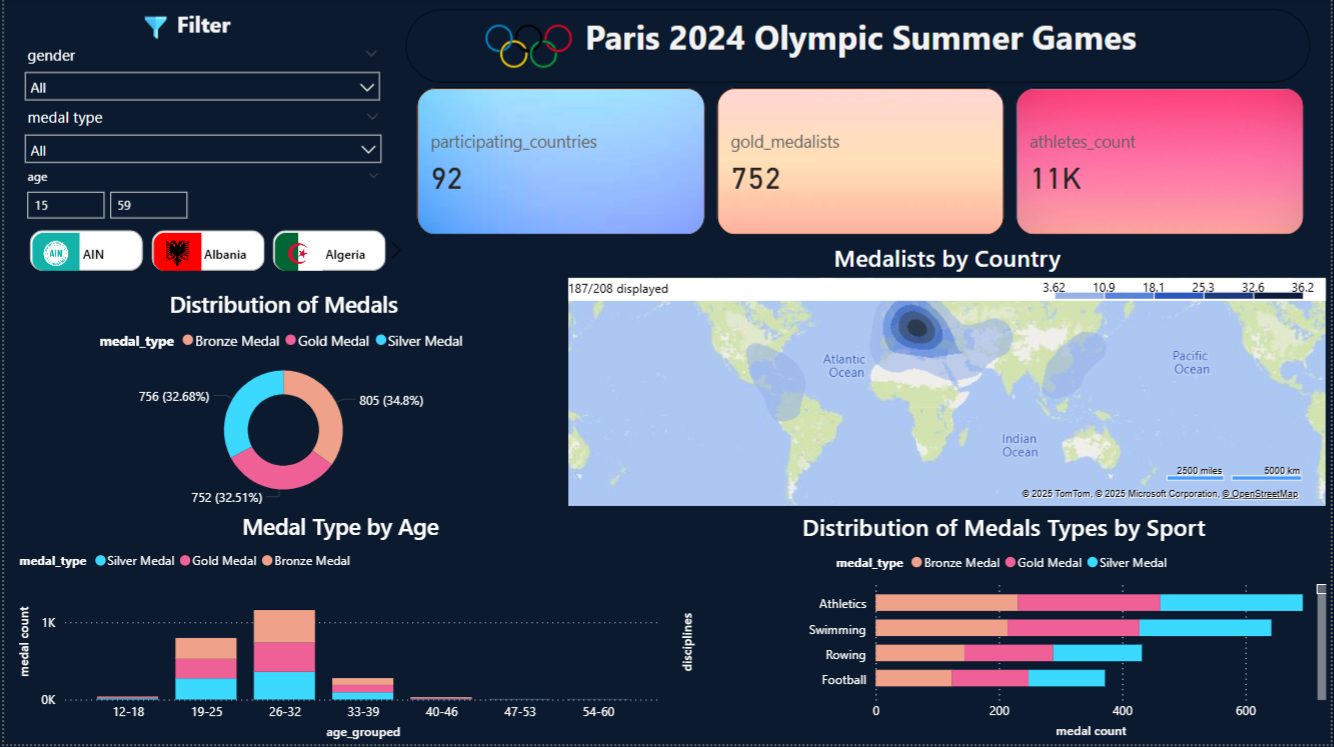

The page's visual inventory and layout, read from the dashboard file:
{"tool":"powerbi","page":{"name":"Page 1","canvas":[1280,720],"ordinal":0},"visuals":[{"type":"shape","box":[387.4,11.1,872.7,71.2],"z":0},{"type":"textbox","box":[393.8,11.2,866.2,71.2],"z":1000},{"type":"cardVisual","fields":{"Data":["winners.athletes_count"]},"box":[971.2,82.5,288.8,152.5],"z":2000},{"type":"heatmapF244EA9EE1F34E828A80CF19B41976F8","title":"Medalists by Country","fields":{"group":["winners.medallists.medal_type"],"location":["winners.country"]},"box":[539.3,231.6,740.8,263],"z":3000},{"type":"barChart","title":"Distribution of Medals Types by Sport","fields":{"Category":["winners.disciplines"],"Series":["winners.medallists.medal_type"],"Y":["winners.filtered medal count"]},"box":[648.8,495,631.2,225],"z":4000},{"type":"lineStackedColumnComboChart","title":"Medal Type by Age","fields":{"Category":["winners.age_grouped"],"Series":["winners.medallists.medal_type"],"Y":["CountNonNull(winners.medallists.medal_type)"]},"box":[9.7,516.4,629.8,203.9],"z":5000},{"type":"donutChart","title":"Distribution of Medals","fields":{"Y":["CountNonNull(winners.medallists.medal_type)"],"Series":["winners.medallists.medal_type"]},"box":[2.4,322.1,539.3,194.2],"z":6000},{"type":"image","box":[459.7,5.5,93.3,82.3],"z":7000},{"type":"cardVisual","title":"A","fields":{"Data":["winners.gold_medalists"]},"box":[682.5,82.5,287.5,152.5],"z":8000},{"type":"cardVisual","fields":{"Data":["winners.participating_countries"]},"box":[393.8,82.5,288.8,152.5],"z":9000},{"type":"slicer","fields":{"Values":["winners.age"]},"box":[22.9,206.3,364.3,68.8],"z":10000},{"type":"actionButton","box":[1210.1,32.6,37.4,30.2],"z":11000},{"type":"shape","box":[2.4,0,384.9,322.1],"z":12000},{"type":"textbox","box":[148.4,7.2,109.8,38.6],"z":13000},{"type":"image","box":[138.7,14.5,35,31.4],"z":14000},{"type":"slicer","fields":{"Values":["winners.gender"]},"box":[14.5,18.1,363.1,60.3],"z":15000},{"type":"slicer","fields":{"Values":["winners.medallists.medal_type"]},"box":[13.3,78.4,364.3,59.1],"z":16000},{"type":"slicer","fields":{"Values":["winners.disciplines"]},"box":[13.3,137.5,364.3,59.1],"z":17000},{"type":"advancedSlicerVisual","fields":{"Values":["winners.country"]},"box":[4.8,257,372.8,53.1],"z":18000},{"type":"slicer","fields":{"Values":["winners.age"]},"box":[14.5,196.6,364.3,68.8],"z":19000}]}

Visuals, with their boxes in screenshot pixels (x1, y1, x2, y2), scaled from the page's 1280x720 canvas onto the 1334x747 screenshot:
shape: select_region(404, 12, 1313, 85)
textbox: select_region(410, 12, 1313, 85)
cardVisual - winners.athletes_count: select_region(1012, 86, 1313, 244)
"Medalists by Country" heatmapF244EA9EE1F34E828A80CF19B41976F8: select_region(562, 240, 1333, 513)
"Distribution of Medals Types by Sport" barChart: select_region(676, 514, 1333, 746)
"Medal Type by Age" lineStackedColumnComboChart: select_region(10, 536, 666, 746)
"Distribution of Medals" donutChart: select_region(3, 334, 565, 536)
image: select_region(479, 6, 576, 91)
"A" cardVisual: select_region(711, 86, 1011, 244)
cardVisual - winners.participating_countries: select_region(410, 86, 711, 244)
slicer - winners.age: select_region(24, 214, 404, 285)
actionButton: select_region(1261, 34, 1300, 65)
shape: select_region(3, 0, 404, 334)
textbox: select_region(155, 7, 269, 48)
image: select_region(145, 15, 181, 48)
slicer - winners.gender: select_region(15, 19, 394, 81)
slicer - winners.medallists.medal_type: select_region(14, 81, 394, 143)
slicer - winners.disciplines: select_region(14, 143, 394, 204)
advancedSlicerVisual - winners.country: select_region(5, 267, 394, 322)
slicer - winners.age: select_region(15, 204, 395, 275)
